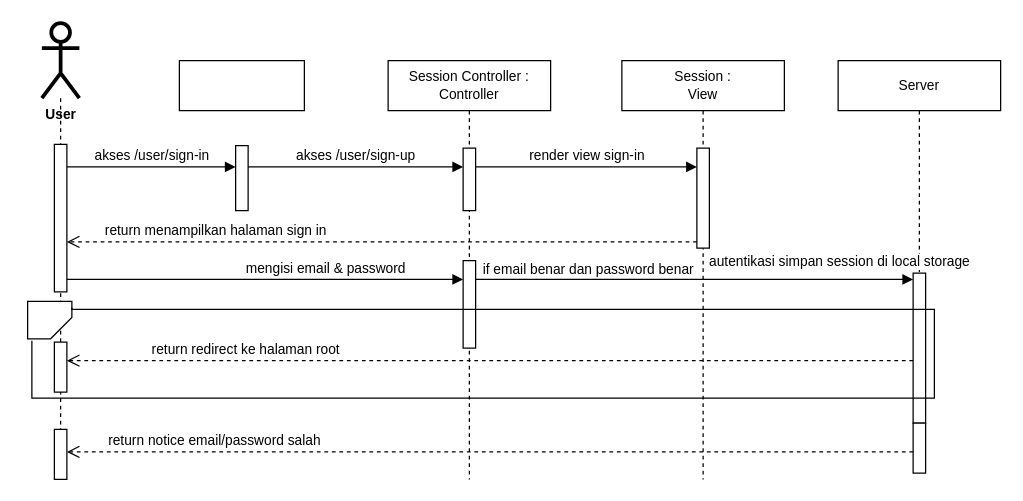
Image size: 1023x501. Some labels were removed from this diagram. Here are the shapes that lost their labels. From the top down, the centre of each, then its label:
the point at 241,85: Route
the point at 49,319: alt
